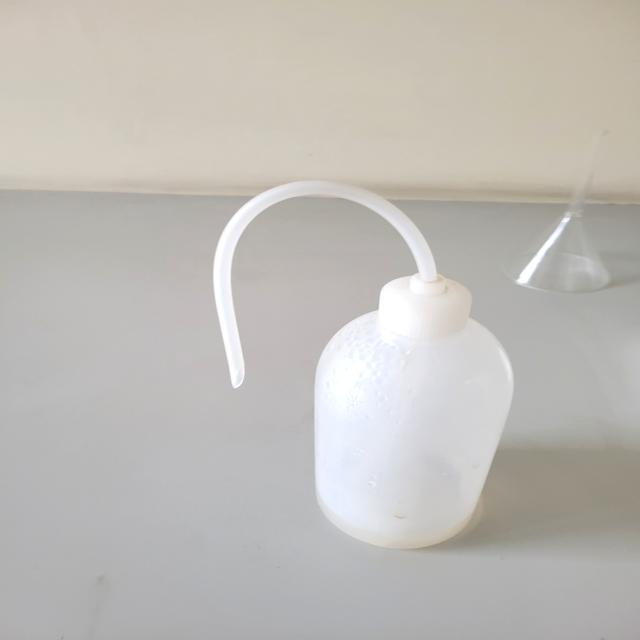Wash_Bottle: (200, 170, 530, 583)
